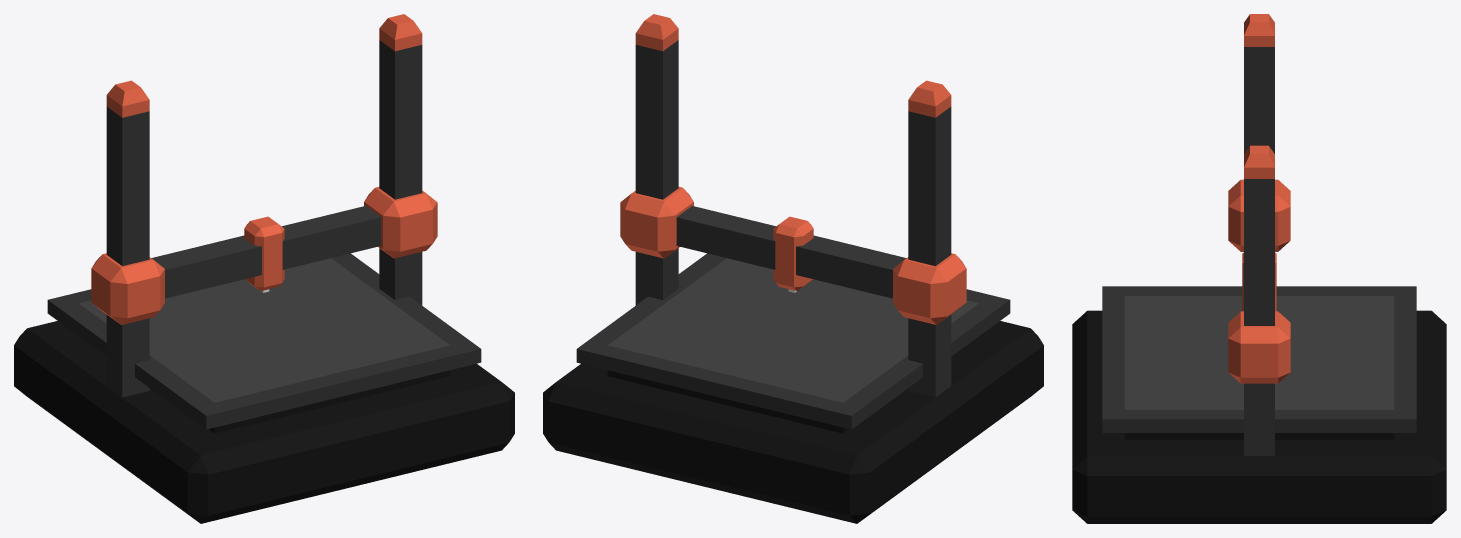
File: 3D_Printer_TD_2.fbx
3 renders of one model, left to right at view 1: azimuth 30°, elevation 25°; view 2: azimuth 150°, elevation 25°; view 3: azimuth 270°, elevation 25°, orthographic.
Parts seen in each view (by area): view 1: Cube.004, Cube.008, Cube.009; view 2: Cube.004, Cube.008, Cube.009; view 3: Cube.004, Cube.008.
Boxes of the visible parts, x1,y1,x2,y2 form: Cube.004: [14, 14, 514, 523]; Cube.008: [91, 187, 437, 324]; Cube.009: [244, 216, 284, 292]; Cube.004: [543, 14, 1043, 523]; Cube.008: [620, 187, 966, 324]; Cube.009: [773, 216, 813, 292]; Cube.004: [1072, 14, 1446, 523]; Cube.008: [1228, 179, 1290, 383].
Size of the model in its own units: 600 by 650 by 600.
